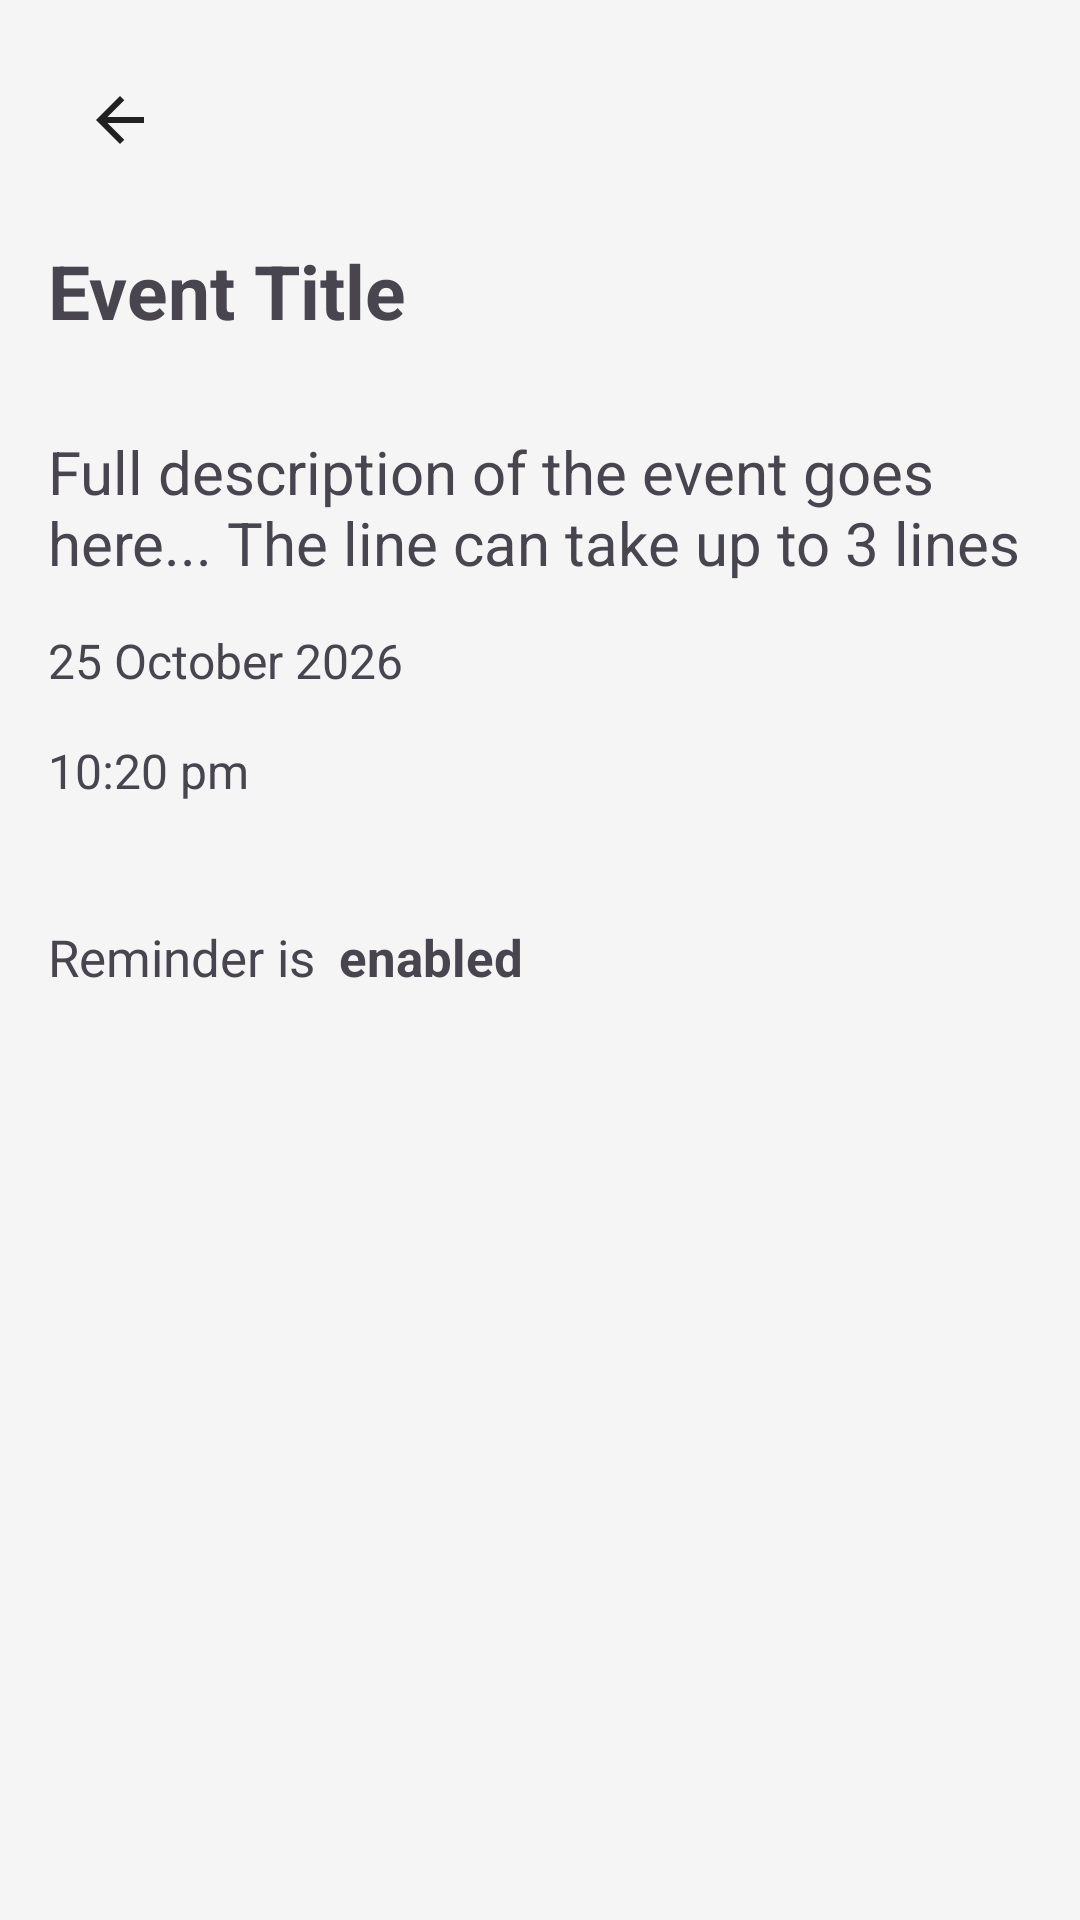

Icons on this 1080x1920 Android screen, each with the point to tap as point (x, y):
Back out: point (120, 120)
